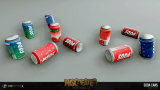can: (30, 41, 59, 65), (4, 34, 27, 60), (105, 44, 134, 63), (138, 33, 156, 60), (61, 35, 83, 53), (98, 24, 112, 47), (120, 26, 142, 40), (22, 20, 35, 40), (49, 22, 62, 42), (44, 13, 56, 29)
